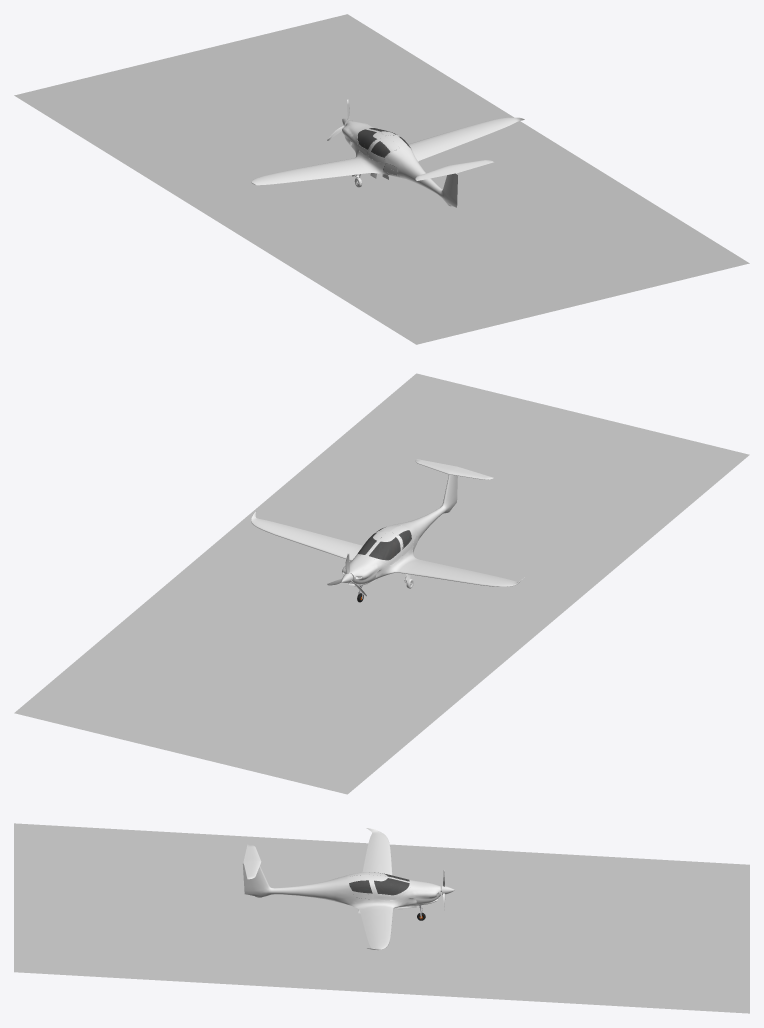
The model's file is PantheraFinal - 2.gltf.
3 renders of one model, top to bottom at view 1: azimuth 30°, elevation 25°; view 2: azimuth 150°, elevation 25°; view 3: azimuth 270°, elevation 25°, orthographic. The views are drawn at different scales.
Visible parts, largest first — view 1: Tla, FuselageRetopologija.001; view 2: Tla, FuselageRetopologija.001; view 3: Tla, FuselageRetopologija.001, LightPanthera-v3.053.
Boxes of the visible parts, bbox=[...] form: Tla: bbox=[14, 14, 749, 344]; FuselageRetopologija.001: bbox=[251, 117, 524, 207]; Tla: bbox=[14, 373, 749, 794]; FuselageRetopologija.001: bbox=[251, 459, 524, 586]; Tla: bbox=[14, 823, 749, 1013]; FuselageRetopologija.001: bbox=[242, 828, 440, 950]; LightPanthera-v3.053: bbox=[374, 878, 409, 895].
Bounding box in the file's own units: 13.48 × 3.3 × 28.17.
